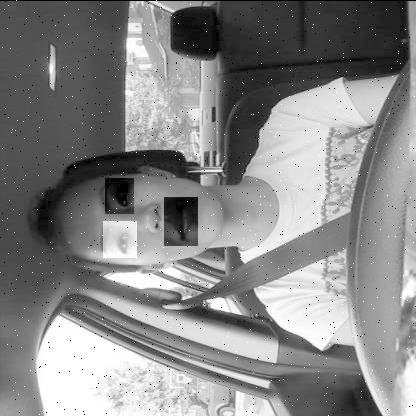seatbelt: (29, 142, 349, 288)
